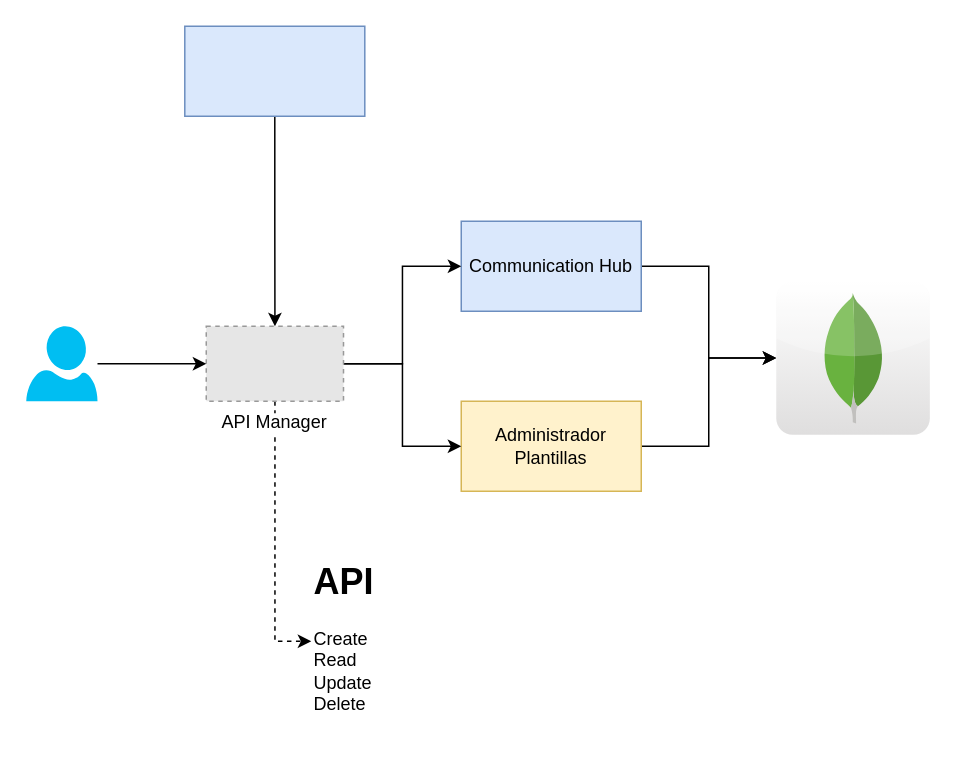
Image size: 956x762. Some labels were removed from this diagram. Grey dashed boxes stand in for pictures. Here are the shapes that lost their labels. From the top down, the centre of each, then its label:
the point at 274,70: Live Marketing
the point at 852,357: BD
